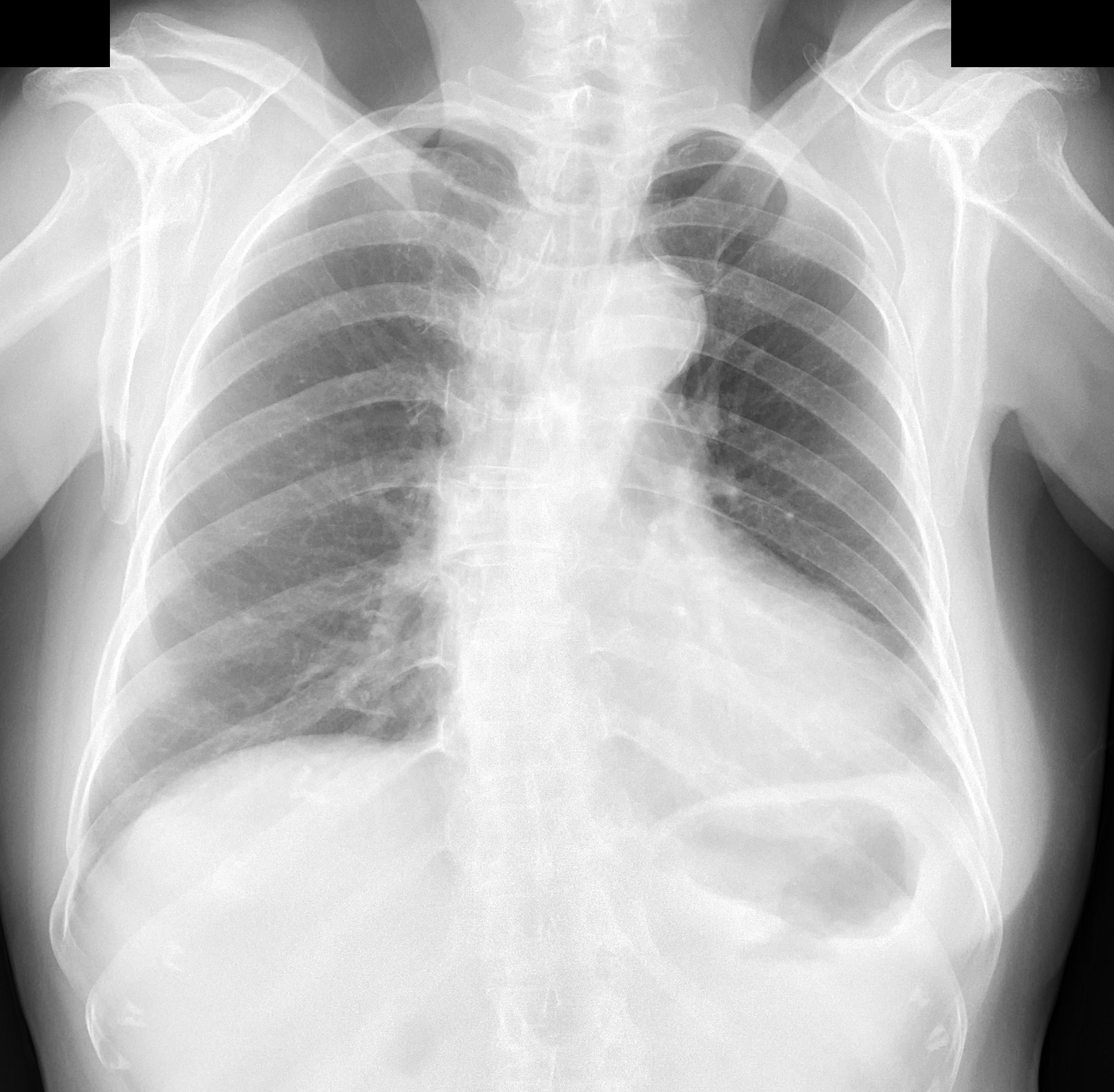Aortic enlargement: (588, 269, 704, 382)
Cardiomegaly: (430, 620, 941, 773)
